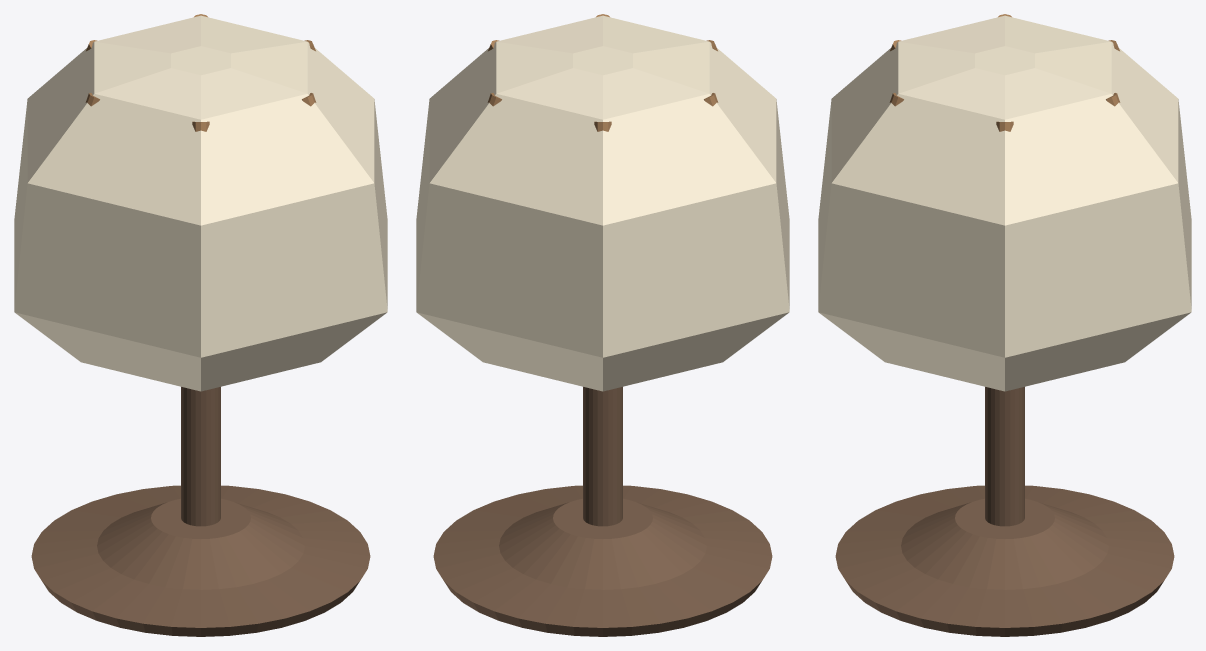
Rendered from home_bonbori.glb.
The picture shows the model from 3 angles, left to right: view 1: azimuth 30°, elevation 25°; view 2: azimuth 150°, elevation 25°; view 3: azimuth 270°, elevation 25°; orthographic projection.
Parts seen in each view (by area): view 1: Bonbori hexagonal paper shade, Snow-cave lamp pedestal, Bonbori brass stem; view 2: Bonbori hexagonal paper shade, Snow-cave lamp pedestal, Bonbori brass stem; view 3: Bonbori hexagonal paper shade, Snow-cave lamp pedestal, Bonbori brass stem.
Part boxes in pixels (x1=…): Bonbori hexagonal paper shade: x1=14, y1=15, x2=387, y2=391; Snow-cave lamp pedestal: x1=31, y1=485, x2=370, y2=636; Bonbori brass stem: x1=181, y1=387, x2=220, y2=526; Bonbori hexagonal paper shade: x1=416, y1=15, x2=789, y2=391; Snow-cave lamp pedestal: x1=433, y1=485, x2=772, y2=636; Bonbori brass stem: x1=583, y1=387, x2=622, y2=526; Bonbori hexagonal paper shade: x1=818, y1=15, x2=1191, y2=391; Snow-cave lamp pedestal: x1=835, y1=485, x2=1174, y2=636; Bonbori brass stem: x1=985, y1=387, x2=1024, y2=526.
Bounding box in the file's own units: 1.46 × 1.95 × 1.26.
